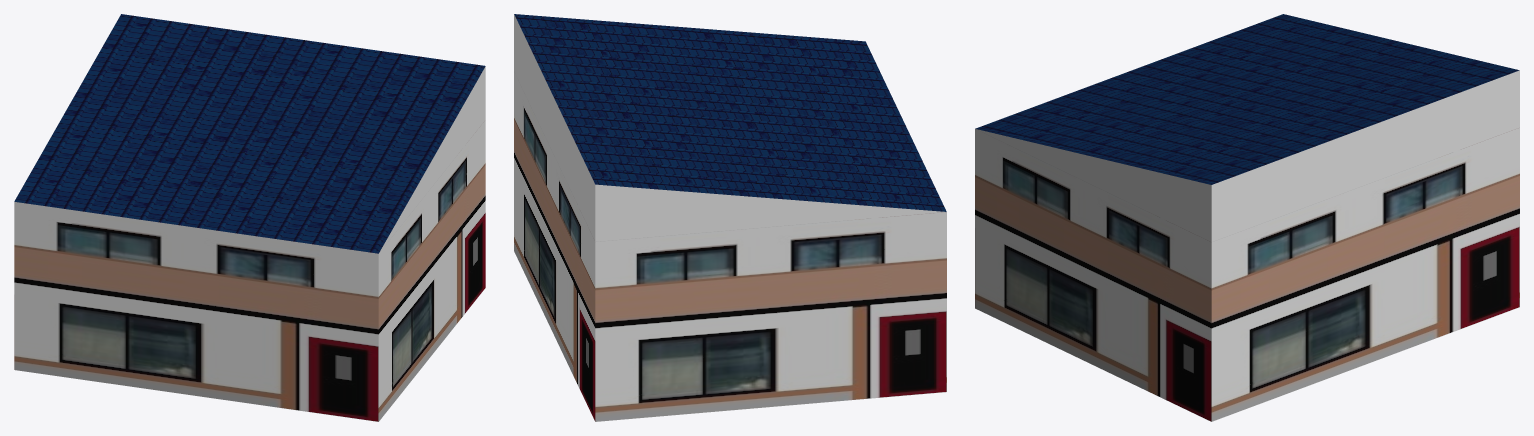
3 renders of one model, left to right at view 1: azimuth 30°, elevation 25°; view 2: azimuth 150°, elevation 25°; view 3: azimuth 270°, elevation 25°, orthographic. The views are drawn at different scales.
Visible parts, largest first — view 1: CityEngineMaterial_5_m, CityEngineMaterial_6_m, CityEngineMaterial_3_m; view 2: CityEngineMaterial_5_m, CityEngineMaterial_6_m, CityEngineMaterial_3_m; view 3: CityEngineMaterial_5_m, CityEngineMaterial_6_m, CityEngineMaterial_3_m.
Part boxes in pixels (x1,y1,x2,y2): CityEngineMaterial_5_m: [14, 120, 485, 421]; CityEngineMaterial_6_m: [14, 14, 485, 253]; CityEngineMaterial_3_m: [379, 66, 485, 252]; CityEngineMaterial_5_m: [514, 71, 946, 421]; CityEngineMaterial_6_m: [514, 14, 946, 211]; CityEngineMaterial_3_m: [514, 14, 944, 241]; CityEngineMaterial_5_m: [975, 127, 1519, 421]; CityEngineMaterial_6_m: [975, 14, 1519, 184]; CityEngineMaterial_3_m: [976, 70, 1519, 242].
Bounding box in the file's own units: 25.04 × 12.12 × 25.26.
